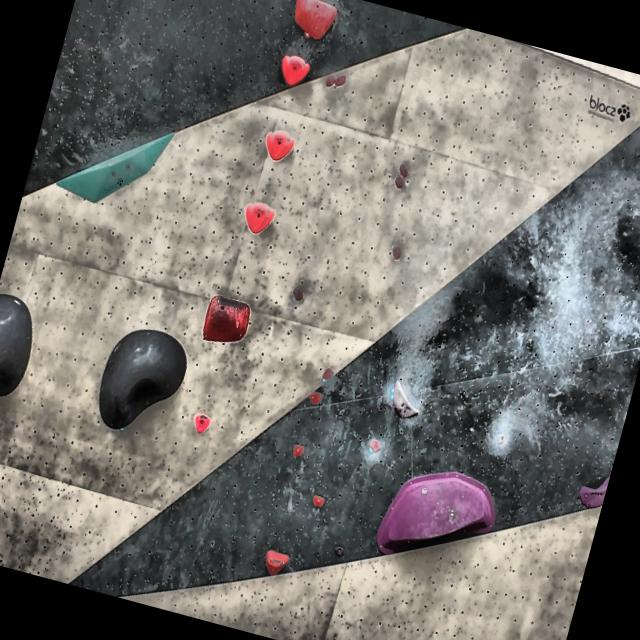Hold: (374, 462, 514, 582), (90, 318, 194, 442), (0, 285, 49, 403), (200, 294, 257, 352), (382, 370, 430, 427), (288, 0, 344, 47), (574, 473, 608, 518), (276, 54, 314, 94), (259, 126, 299, 164), (240, 204, 277, 242), (258, 544, 294, 583), (322, 66, 350, 94), (390, 160, 411, 196), (189, 410, 212, 440), (284, 281, 308, 307), (304, 388, 329, 409), (364, 436, 384, 459), (387, 242, 406, 264), (318, 366, 336, 384), (290, 440, 306, 458), (310, 492, 326, 508)
